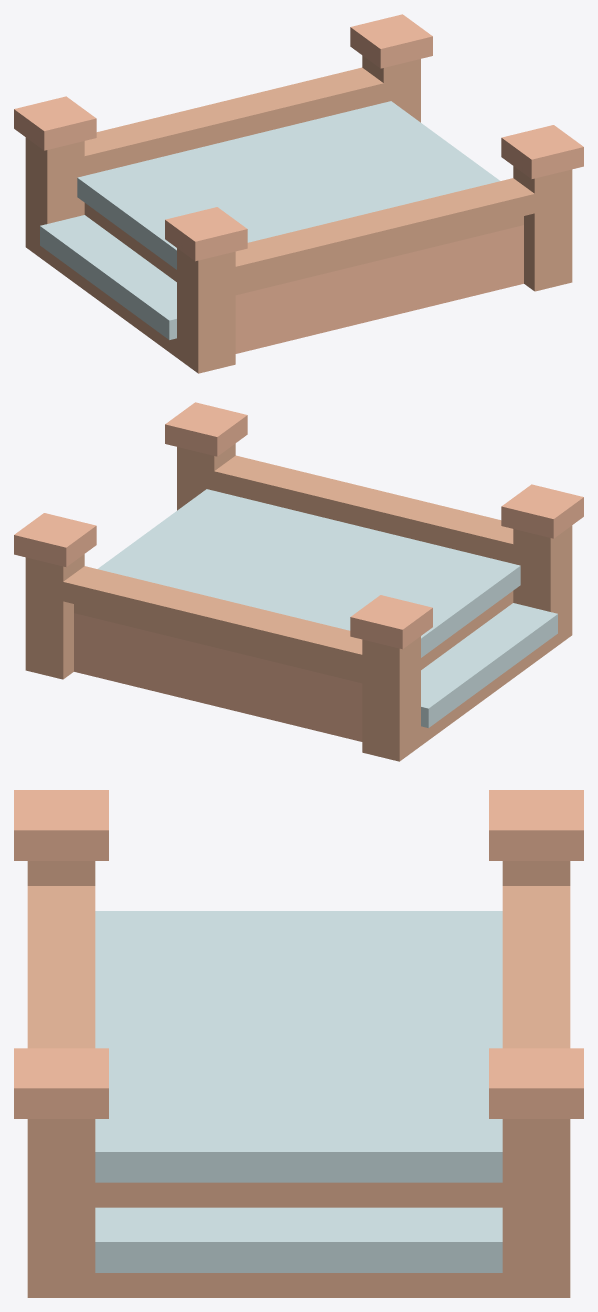
The picture shows the model from 3 angles, top to bottom: view 1: azimuth 30°, elevation 25°; view 2: azimuth 150°, elevation 25°; view 3: azimuth 270°, elevation 25°; orthographic projection. The views are drawn at different scales.
Parts seen in each view (by area): view 1: bridge_woodNarrow; view 2: bridge_woodNarrow; view 3: bridge_woodNarrow.
Part boxes in pixels (x1=…): bridge_woodNarrow: x1=14, y1=14, x2=583, y2=373; bridge_woodNarrow: x1=14, y1=402, x2=583, y2=761; bridge_woodNarrow: x1=14, y1=790, x2=583, y2=1297.
Size of the model in its own units: 1.04 by 0.35 by 0.84.
